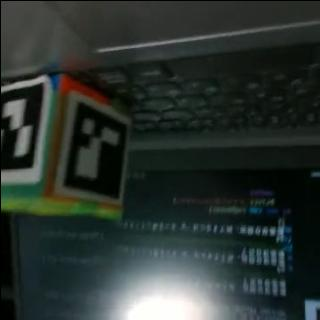armor: (57, 95, 131, 203), (0, 76, 50, 182)
robot: (0, 69, 132, 214)
